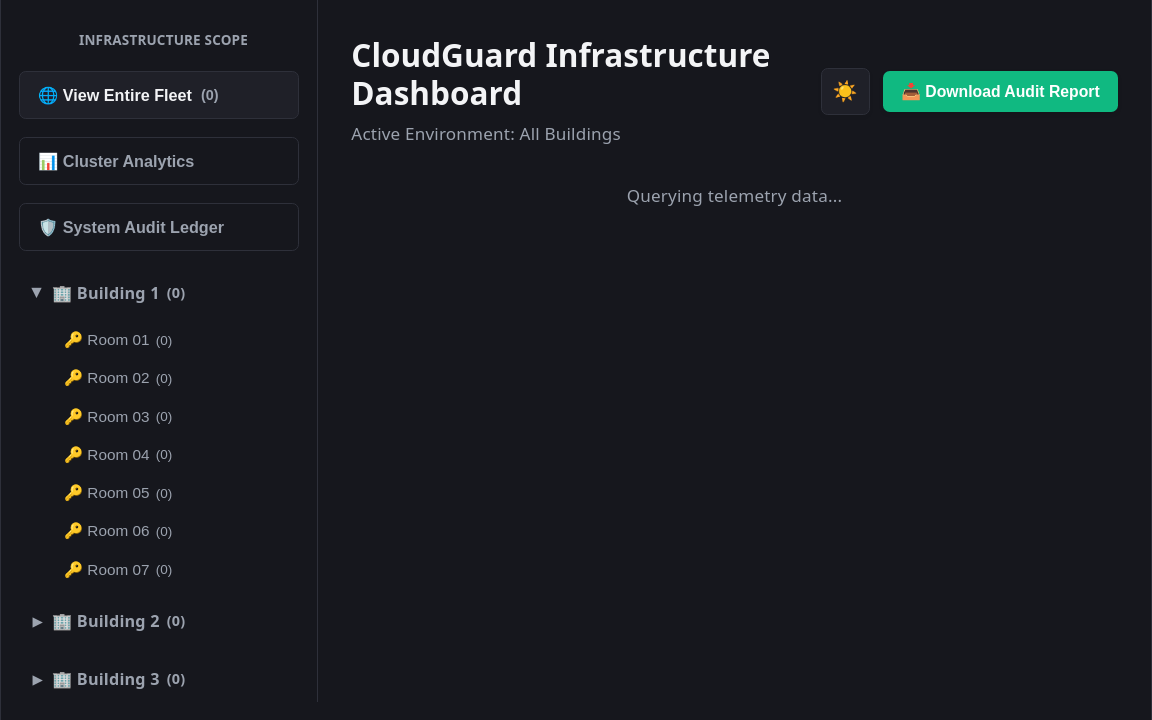
Test: App Root Component Integration › gracefully handles audit ledger network failures and displays error boundary text layouts
Note: Click the ledger view button in the sidebar nav tree
Click the button "🛡️ System Audit Ledger".
click(159, 227)  # box x1=19 y1=203 x2=299 y2=251
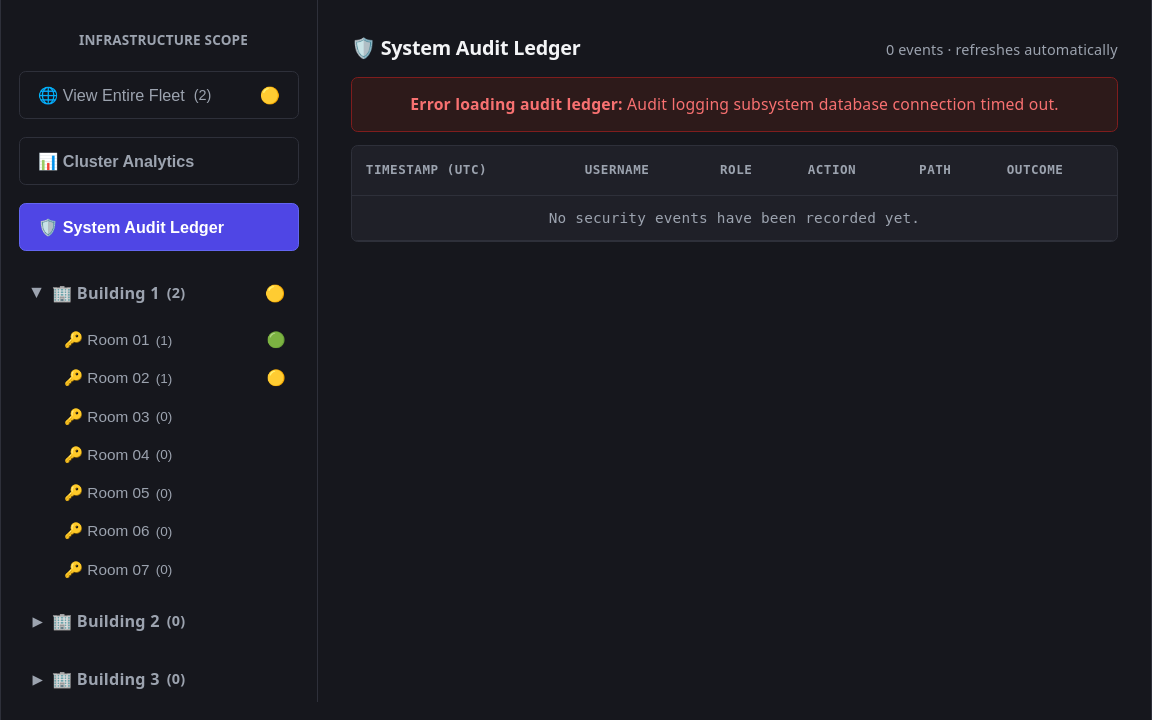
Check: the text "Audit logging subsystem database connection timed out." is shown, box x1=627 y1=93 x2=1059 y2=115
